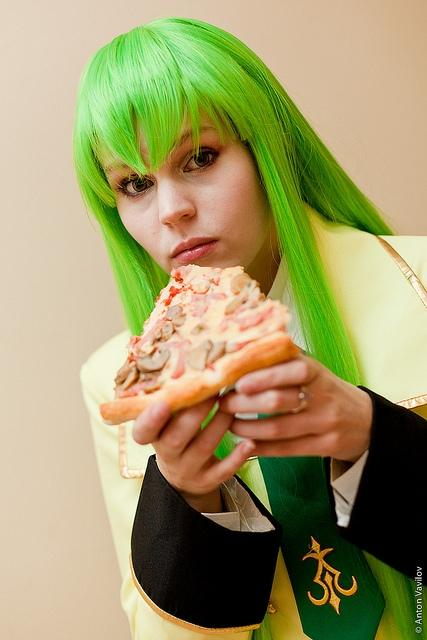mushroom: (223, 280, 257, 312), (187, 340, 213, 371), (138, 352, 169, 372), (231, 272, 252, 295), (206, 341, 227, 364), (122, 366, 140, 392), (155, 320, 174, 342), (114, 358, 130, 384), (189, 277, 212, 294), (138, 341, 156, 357), (164, 304, 182, 320), (172, 313, 187, 327)
